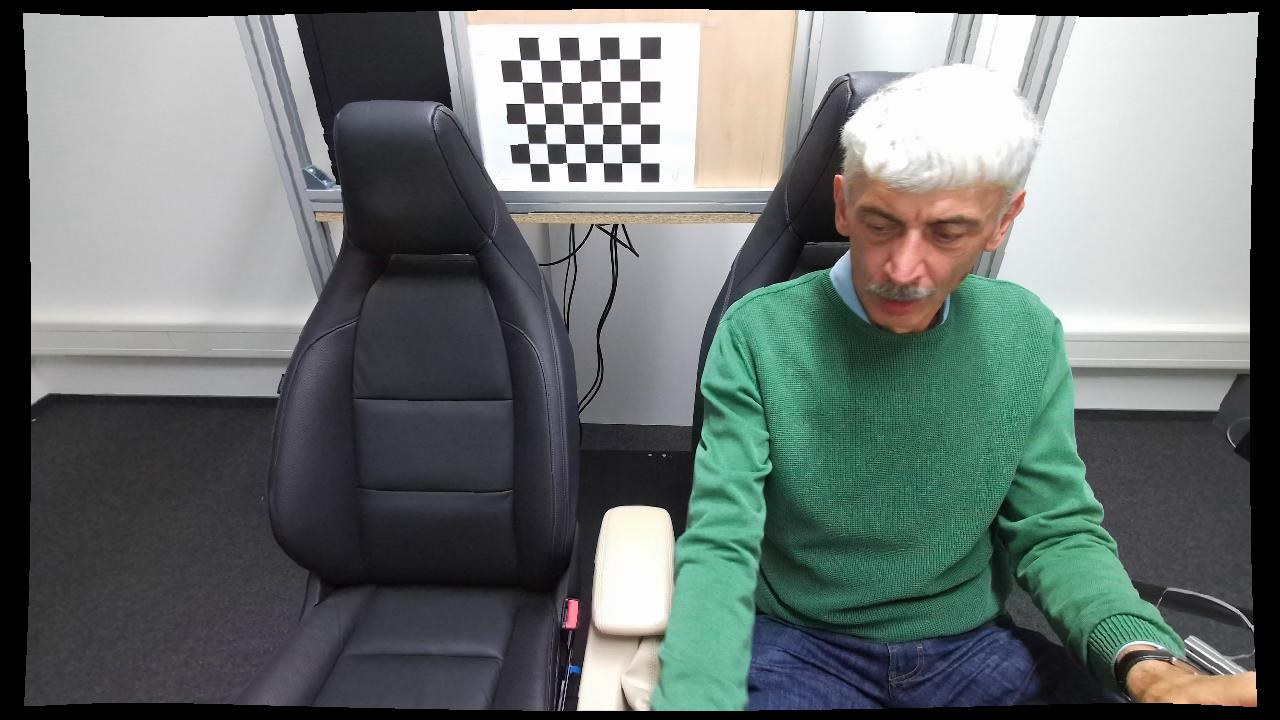Distracted: (648, 62, 1164, 714)
